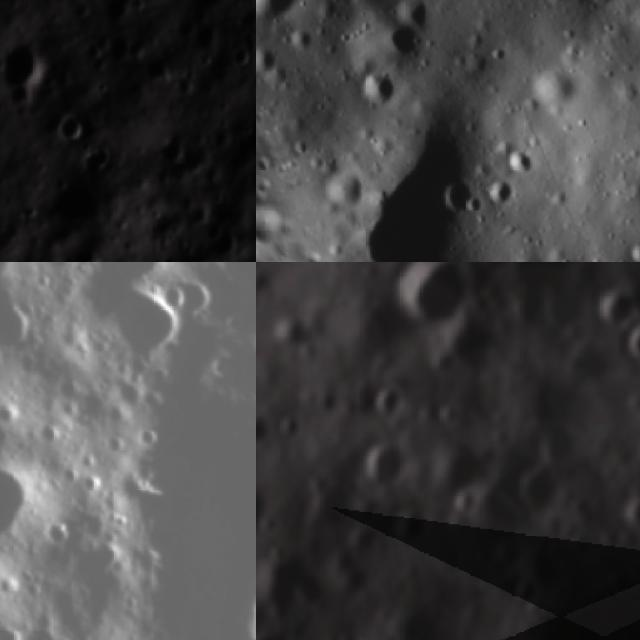crater: (323, 116, 534, 262), (374, 262, 488, 349), (88, 273, 190, 367), (256, 535, 346, 639), (0, 442, 63, 566), (496, 444, 576, 528), (344, 422, 421, 500), (422, 167, 489, 228), (0, 285, 50, 366), (374, 9, 435, 74), (316, 156, 375, 219), (583, 267, 640, 328), (502, 566, 556, 620), (352, 62, 402, 119), (475, 170, 528, 223), (442, 473, 495, 526), (366, 372, 419, 423), (0, 41, 41, 101), (256, 0, 318, 38), (432, 388, 478, 437), (610, 304, 640, 378), (256, 469, 282, 552), (496, 142, 541, 187), (612, 473, 640, 542), (568, 0, 639, 23), (256, 504, 293, 545), (51, 110, 88, 144), (256, 398, 278, 449), (480, 36, 512, 70), (627, 147, 640, 193), (621, 235, 640, 262)
